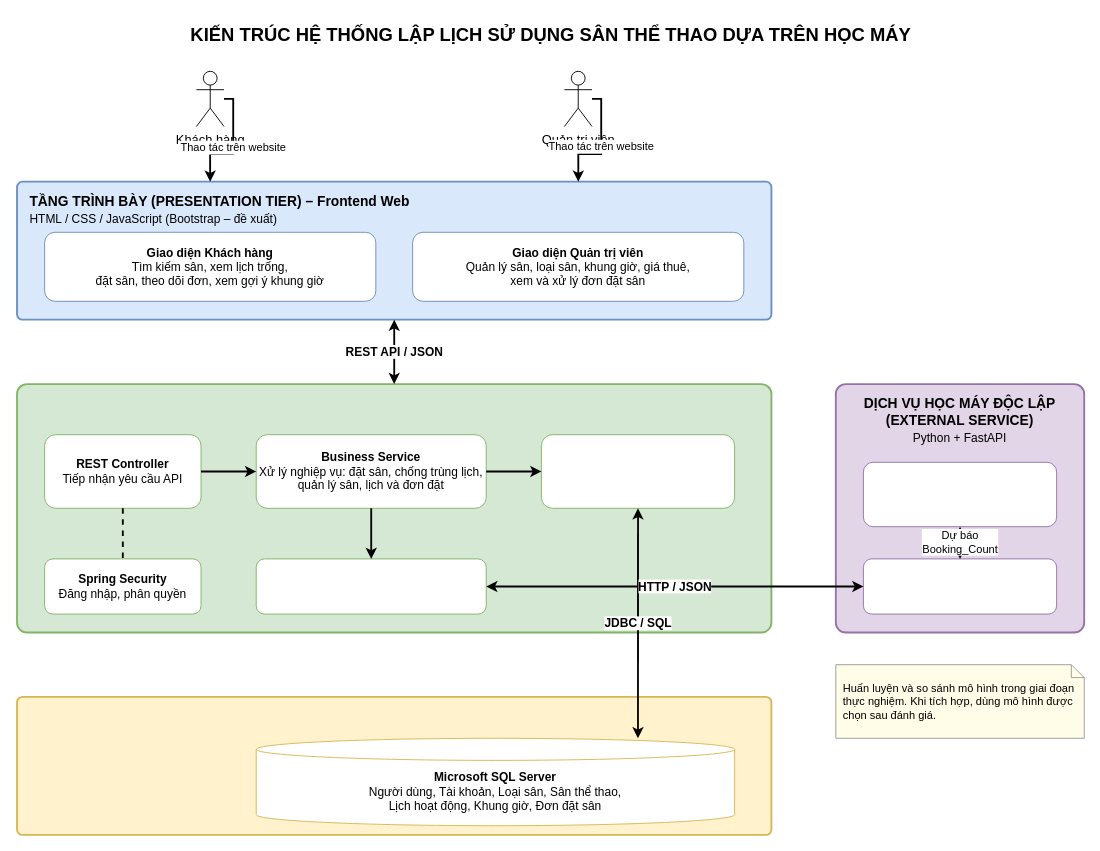
This 1100x851 diagram has some shape labels left out. Each missing label, with the box of its shape:
ML Integration Service Gọi dịch vụ dự báo, xếp hạng khung giờ gợi ý: (255, 558, 486, 614)
Mô hình học máy Random Forest hoặc XGBoost (mô hình được chọn): (862, 461, 1057, 527)
Repository Truy cập cơ sở dữ liệu: (540, 434, 735, 508)
REST API dự báo POST /predict (dự kiến): (862, 558, 1057, 614)
TẦNG DỮ LIỆU (DATA TIER): (16, 696, 772, 835)
TẦNG ỨNG DỤNG (APPLICATION TIER) – Backend Java Spring Boot: (16, 383, 772, 633)
